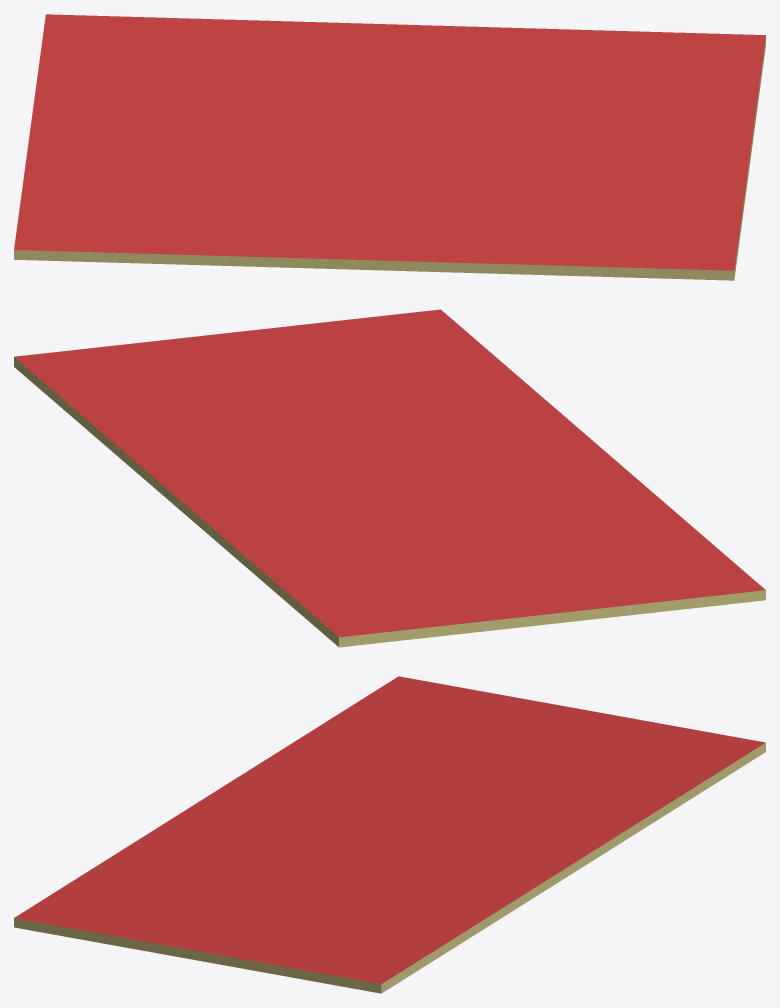
3 views of the same model, one above another, from view 1: azimuth 30°, elevation 25°; view 2: azimuth 150°, elevation 25°; view 3: azimuth 270°, elevation 25° (orthographic). The views are drawn at different scales.
Bounding box in the file's own units: 7.87 × 7.22 × 0.505.
